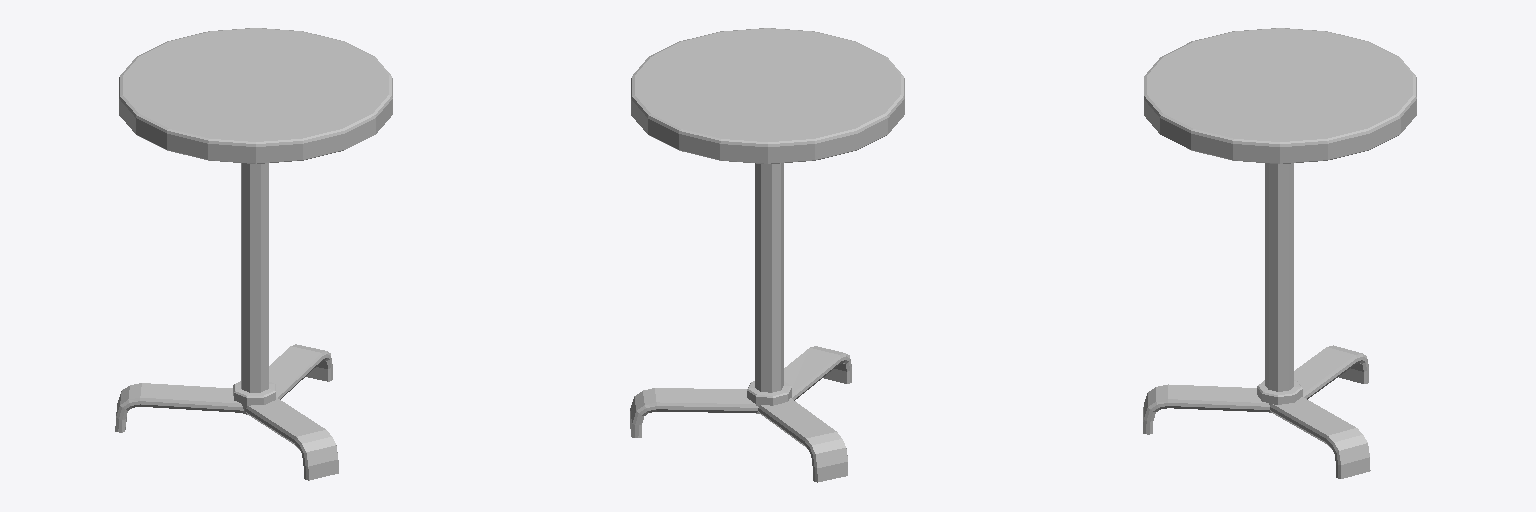
The model's file is stool.obj.
3 renders of one model, left to right at view 1: azimuth 30°, elevation 25°; view 2: azimuth 150°, elevation 25°; view 3: azimuth 270°, elevation 25°, orthographic.
Visible parts, largest first — view 1: 1930_club_table; view 2: 1930_club_table; view 3: 1930_club_table.
Part boxes in pixels (x1,y1,x2,y2): 1930_club_table: (115, 28, 392, 480); 1930_club_table: (630, 28, 904, 482); 1930_club_table: (1143, 28, 1416, 478).
Bounding box in the file's own units: 58.92 × 79.97 × 58.13.